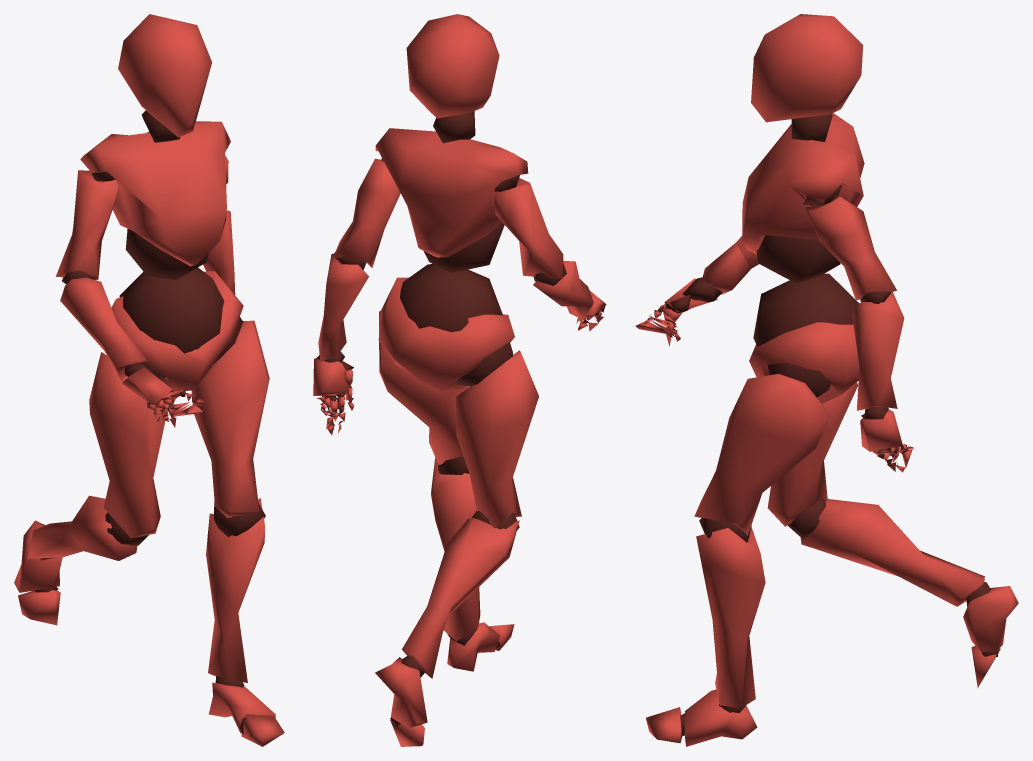
3 renders of one model, left to right at view 1: azimuth 30°, elevation 25°; view 2: azimuth 150°, elevation 25°; view 3: azimuth 270°, elevation 25°, orthographic. The views are drawn at different scales.
Visible parts, largest first — view 1: Beta_Surface; view 2: Beta_Surface; view 3: Beta_Surface.
Part boxes in pixels (x1,y1,x2,y2): Beta_Surface: (14,14,284,746); Beta_Surface: (313,14,606,746); Beta_Surface: (635,14,1018,746).
Bounding box in the file's own units: 4.7 × 14.27 × 7.01.
